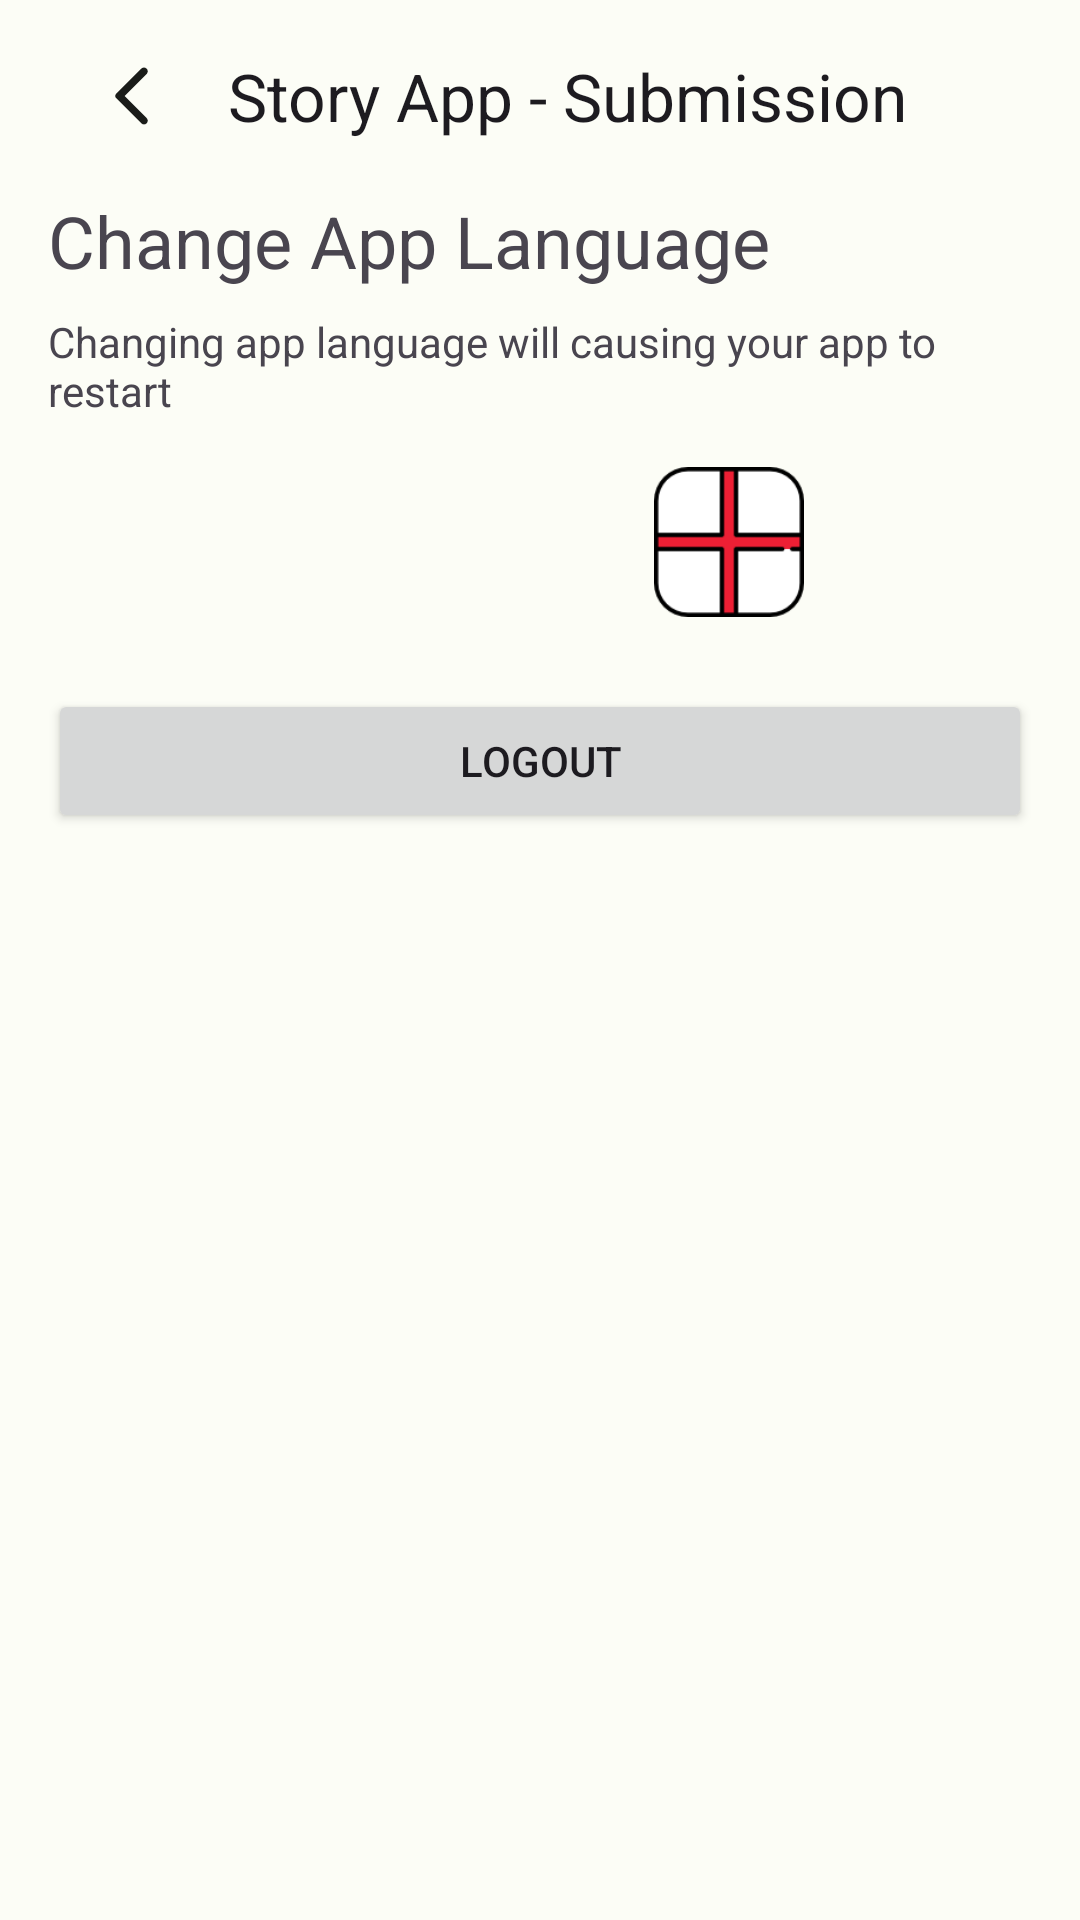

Icon click points for this 1080px x 1920px phone screenshot, format point (x, y):
england: point (729, 542)
